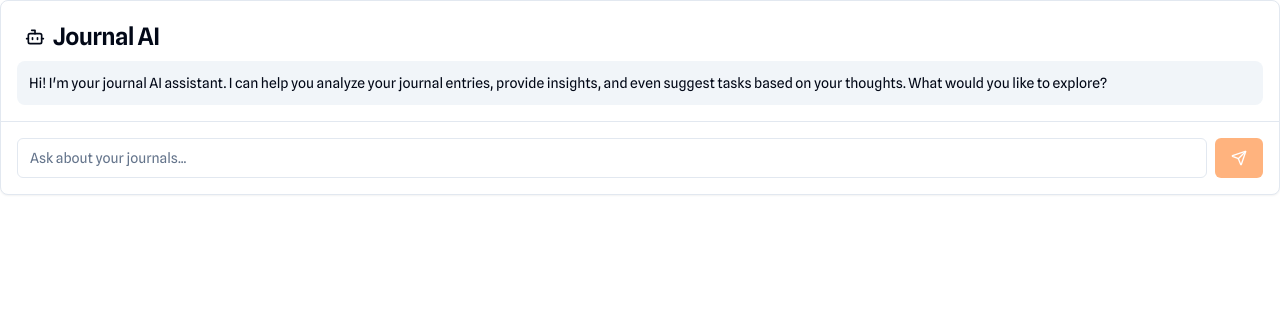
Test: JournalChat › shows error fallback if API fails
This screenshot has width=1280, height=332.
Type "Test" into the field with placeholder "Ask about your journals..." at (612, 158), box top-left (17, 138), bottom-right (1207, 178)
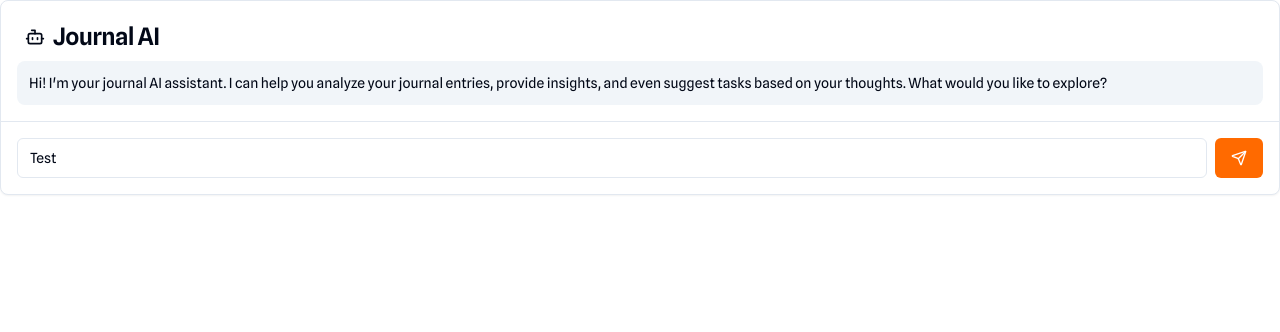
Click the button at (1239, 158), box top-left (1215, 138), bottom-right (1263, 178)
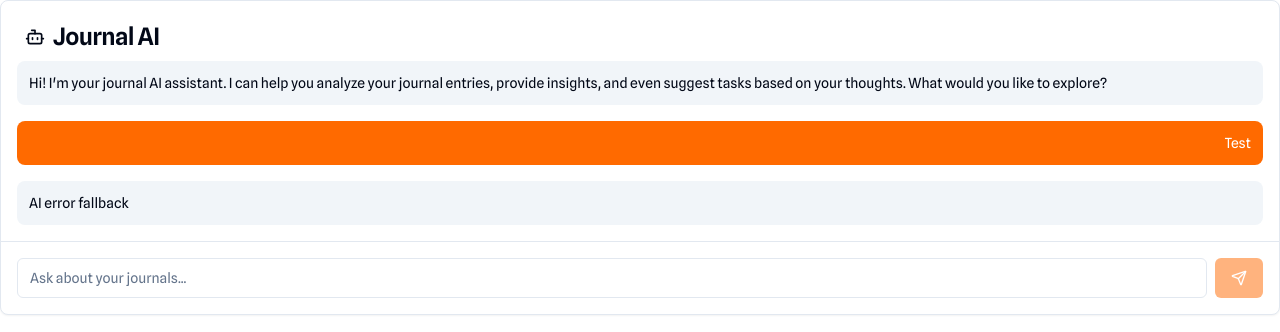
Result: the text "AI error fallback" is shown at top-left (29, 195), bottom-right (128, 211)
